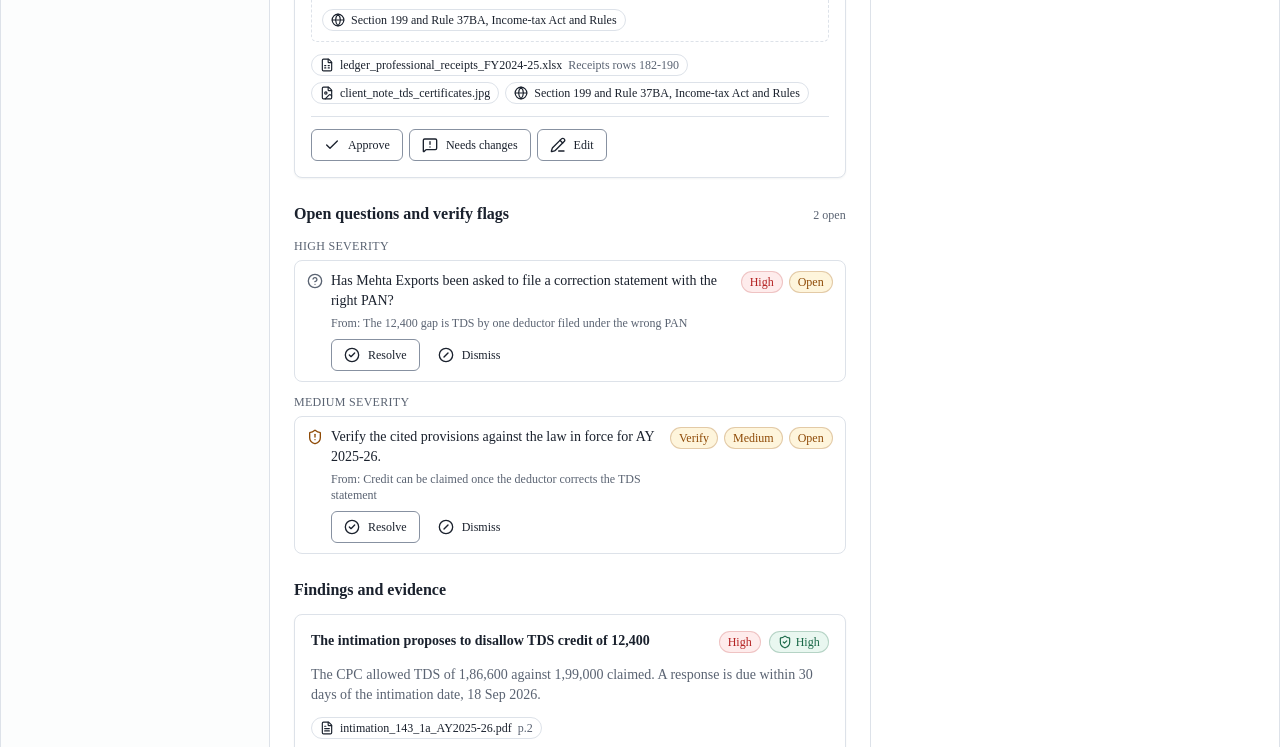
Test case: review workspace › holds approval until pending review changes are saved
The image size is (1280, 747).
(page scrolled)
Click the button "Resolve" below "High severity".
click(375, 355)  # box [331,339,420,371]
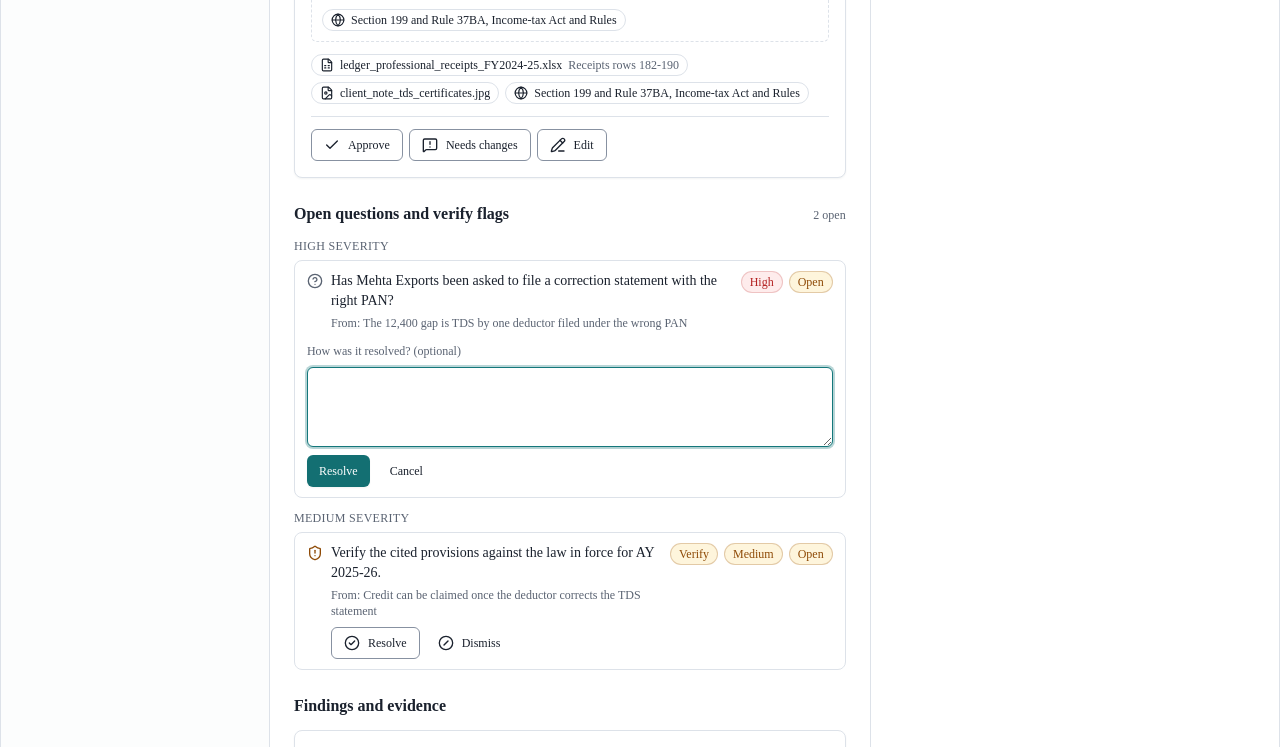
Click the button "Resolve" below "How was it resolved?".
click(338, 471)  # box [307,455,370,487]
(page scrolled)
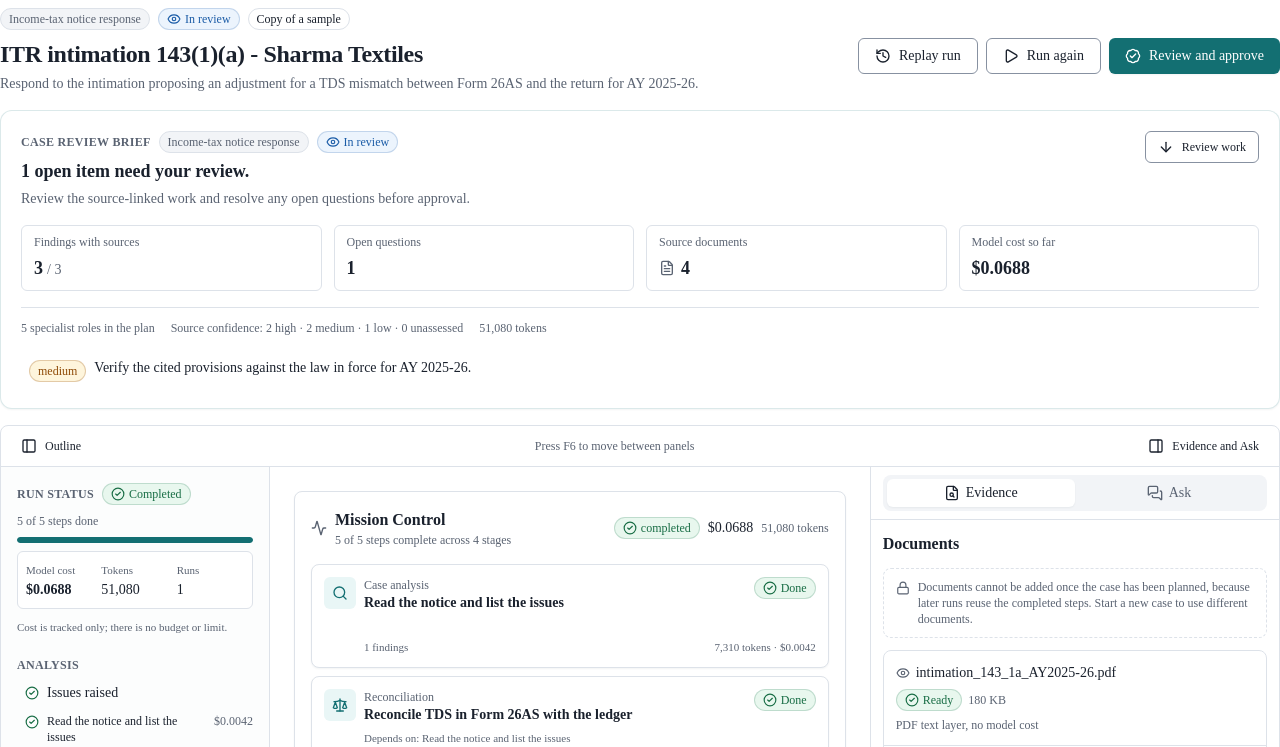
Click the button "Review and approve".
click(1194, 56)  # box [1109,38,1279,74]
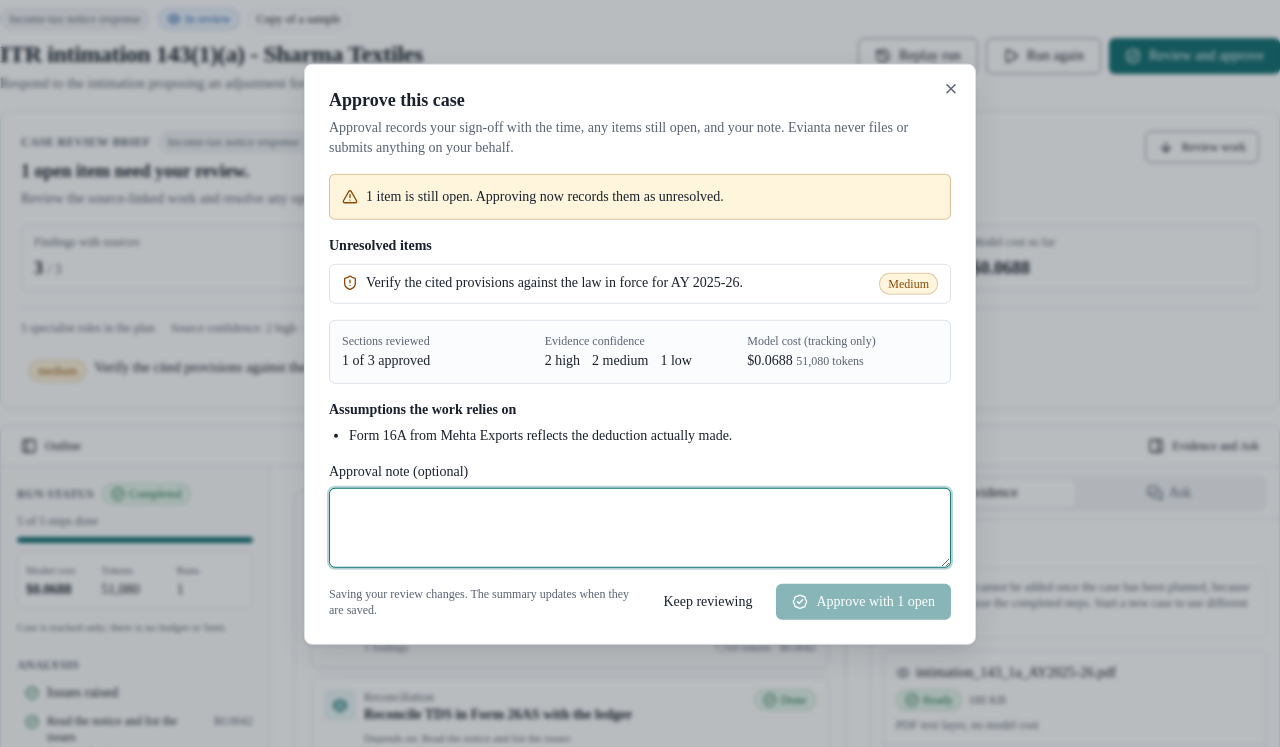
Result: the message "Saving your review changes. The summary updates when they are saved." is shown at [329,585,639,617]
Result: the button "Approve with 1 open" is disabled
Click the button "Approve with 1 open".
click(864, 601)  # box [776,583,951,619]
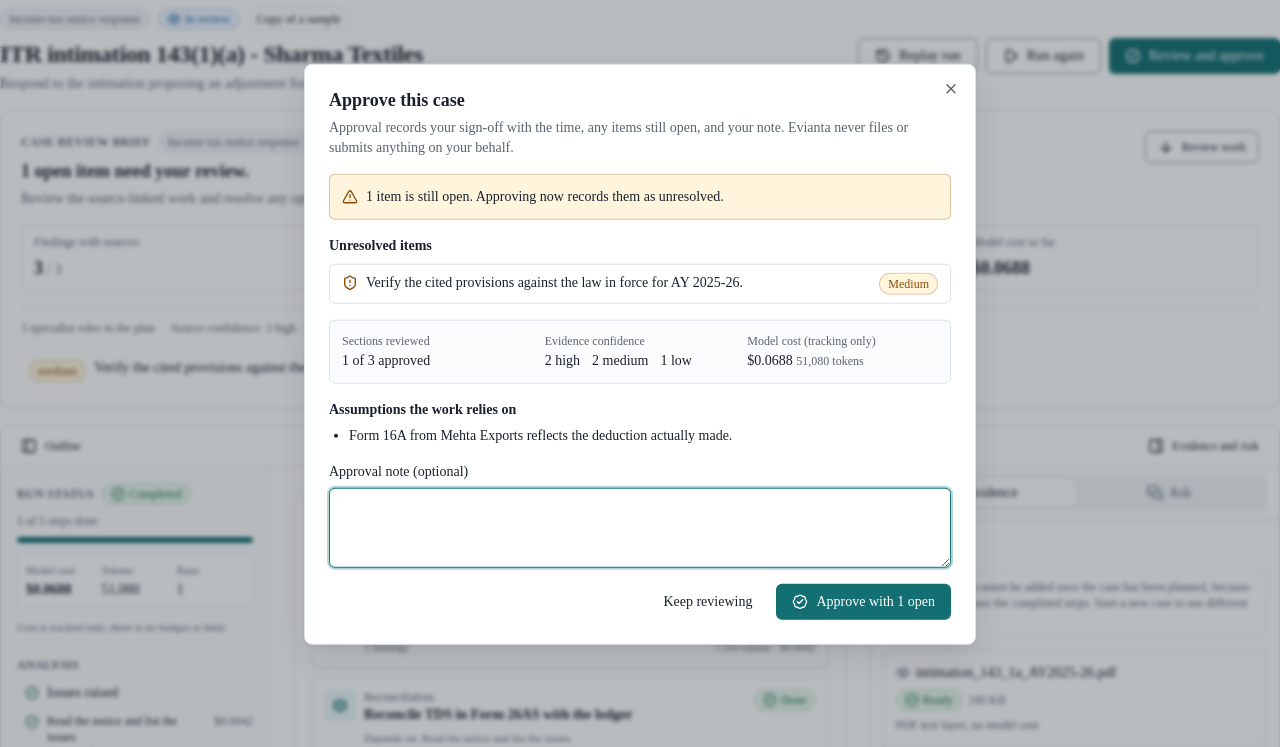
Result: the message with test id "approval-waiting" is gone
Click the button "Approve with 1 open".
click(864, 601)  # box [776,583,951,619]
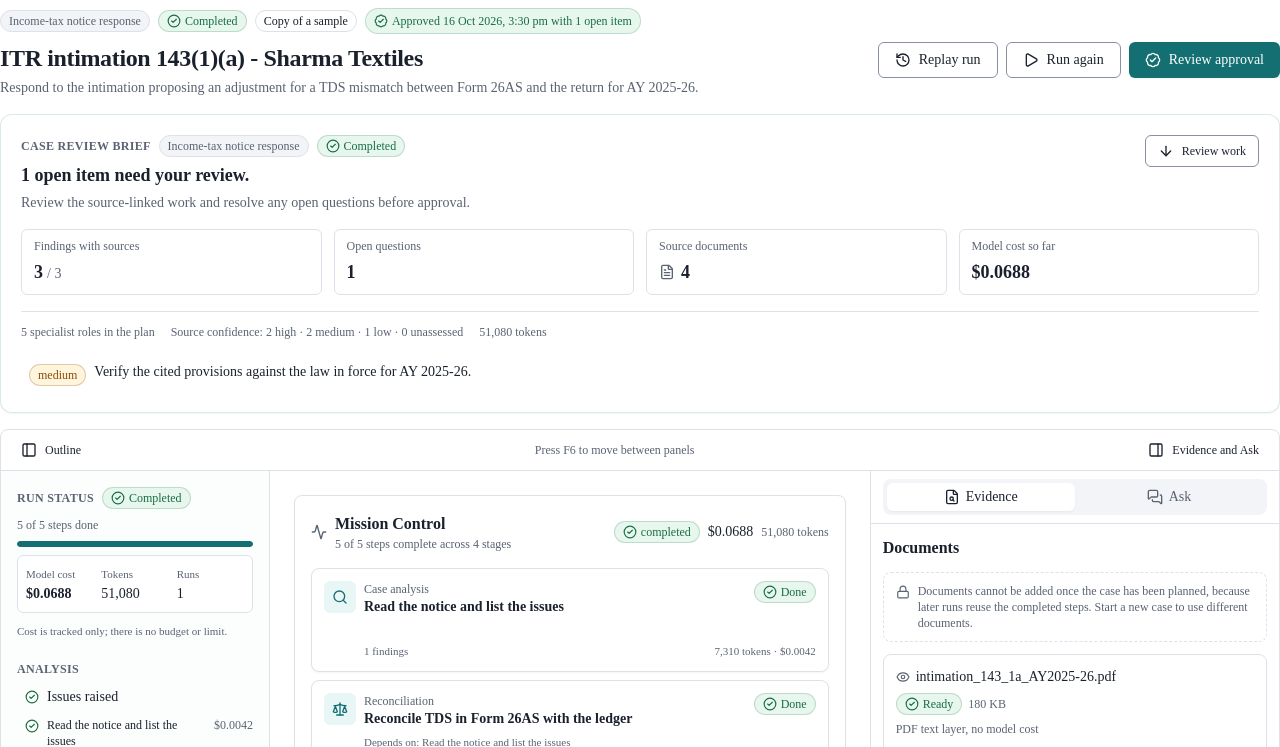
Result: the element with test id "approval-badge" shows "with 1 open item" at [548,14,632,28]
